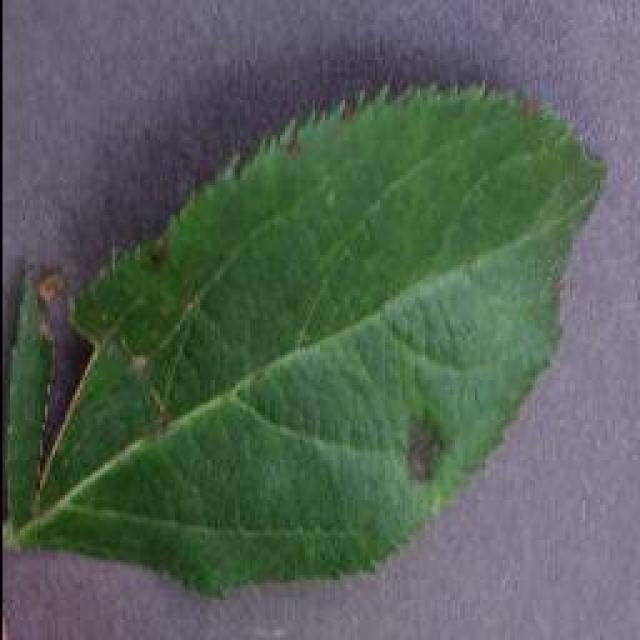apple scab disease: (5, 75, 607, 600)
